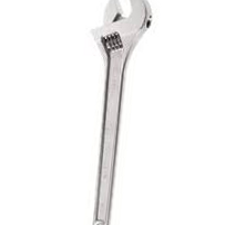wrench: (89, 1, 156, 225)
